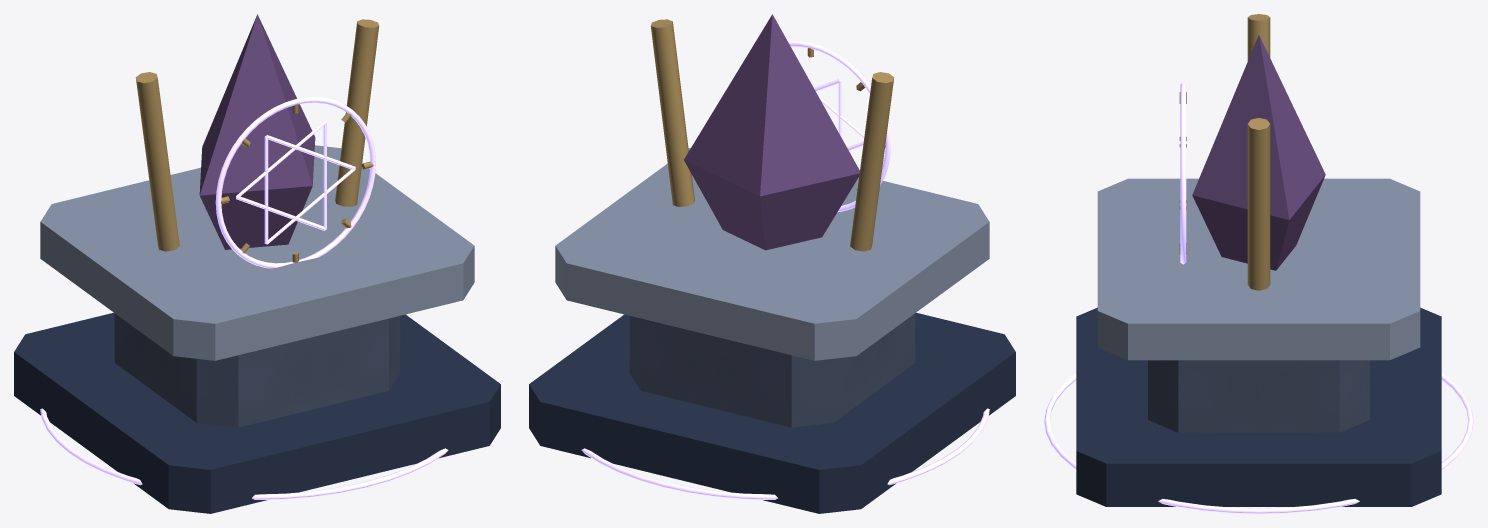
File: station-01.glb
3 renders of one model, left to right at view 1: azimuth 30°, elevation 25°; view 2: azimuth 150°, elevation 25°; view 3: azimuth 270°, elevation 25°, orthographic.
Visible parts, largest first — view 1: ProjectStation_01_edge, ProjectStation_01_dark, ProjectStation_01_stone, Artifact_01_violet, Artifact_01_gold, Artifact_01_rune, ProjectStation_01_rune; view 2: ProjectStation_01_edge, ProjectStation_01_dark, Artifact_01_violet, ProjectStation_01_stone, Artifact_01_gold, ProjectStation_01_rune, Artifact_01_rune; view 3: ProjectStation_01_edge, ProjectStation_01_dark, ProjectStation_01_stone, Artifact_01_violet, Artifact_01_gold, ProjectStation_01_rune, Artifact_01_rune.
Boxes of the visible parts, <box> form: ProjectStation_01_edge: <box>40,145,474,360</box>; ProjectStation_01_dark: <box>14,312,500,513</box>; ProjectStation_01_stone: <box>114,313,400,427</box>; Artifact_01_violet: <box>199,14,315,249</box>; Artifact_01_gold: <box>135,19,379,262</box>; Artifact_01_rune: <box>215,97,375,268</box>; ProjectStation_01_rune: <box>40,408,448,499</box>; ProjectStation_01_edge: <box>555,148,989,360</box>; ProjectStation_01_dark: <box>529,312,1015,513</box>; Artifact_01_violet: <box>684,14,859,250</box>; ProjectStation_01_stone: <box>629,313,915,427</box>; Artifact_01_gold: <box>650,19,894,251</box>; ProjectStation_01_rune: <box>581,408,989,499</box>; Artifact_01_rune: <box>788,40,890,212</box>; ProjectStation_01_edge: <box>1097,178,1420,360</box>; ProjectStation_01_dark: <box>1076,307,1441,506</box>; ProjectStation_01_stone: <box>1148,360,1369,432</box>; Artifact_01_violet: <box>1192,35,1325,270</box>; Artifact_01_gold: <box>1179,14,1270,290</box>; ProjectStation_01_rune: <box>1044,373,1473,513</box>; Artifact_01_rune: <box>1180,82,1186,264</box>.
Bounding box in the file's own units: 1.7 × 1.72 × 1.7.
Materials: 6 (1 with a texture image).
